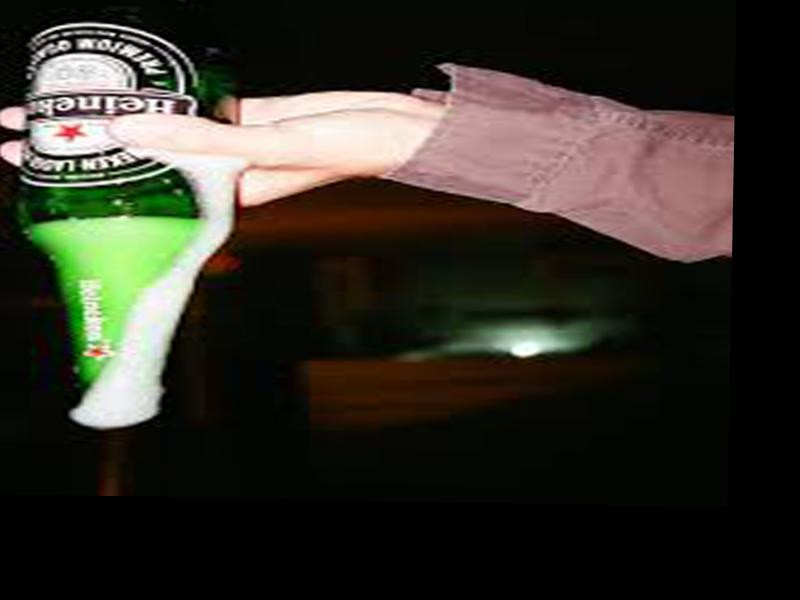Beer: (7, 11, 241, 410)
